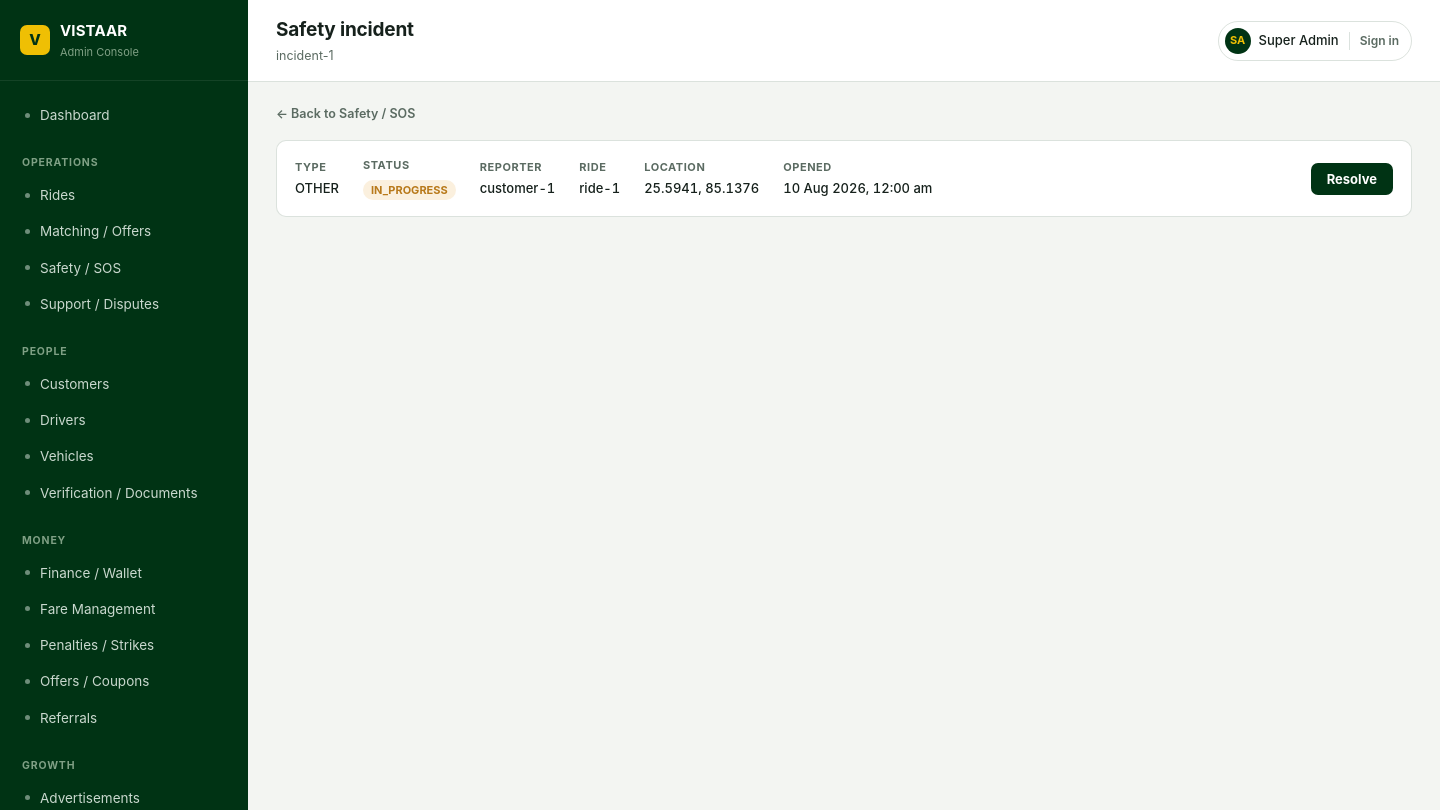
IncidentDetailPage › resolves an IN_PROGRESS incident
Click the button "Resolve".
click(1352, 178)  # box [1311, 162, 1393, 194]
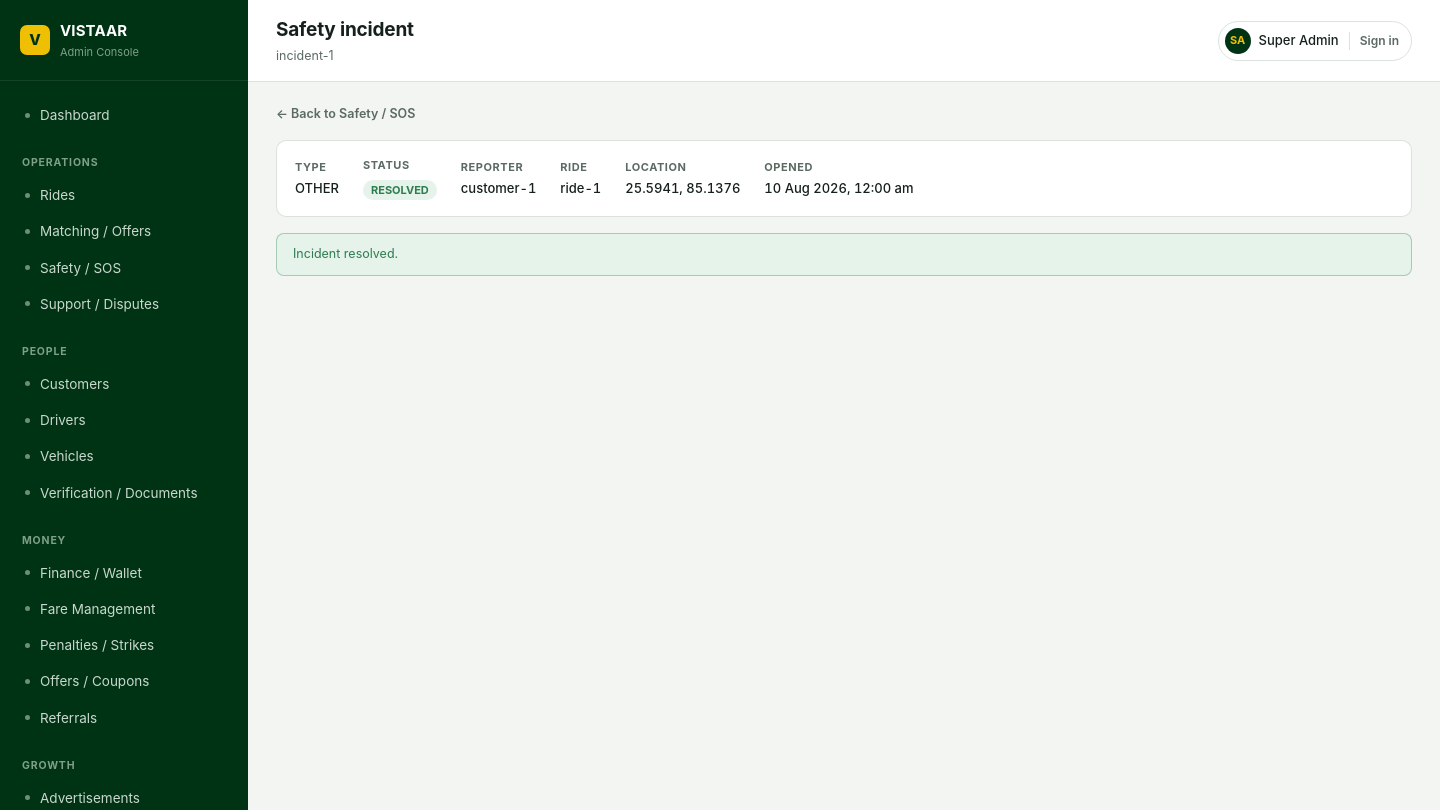
Check: the text "Incident resolved." is shown, box [276, 233, 1412, 276]
